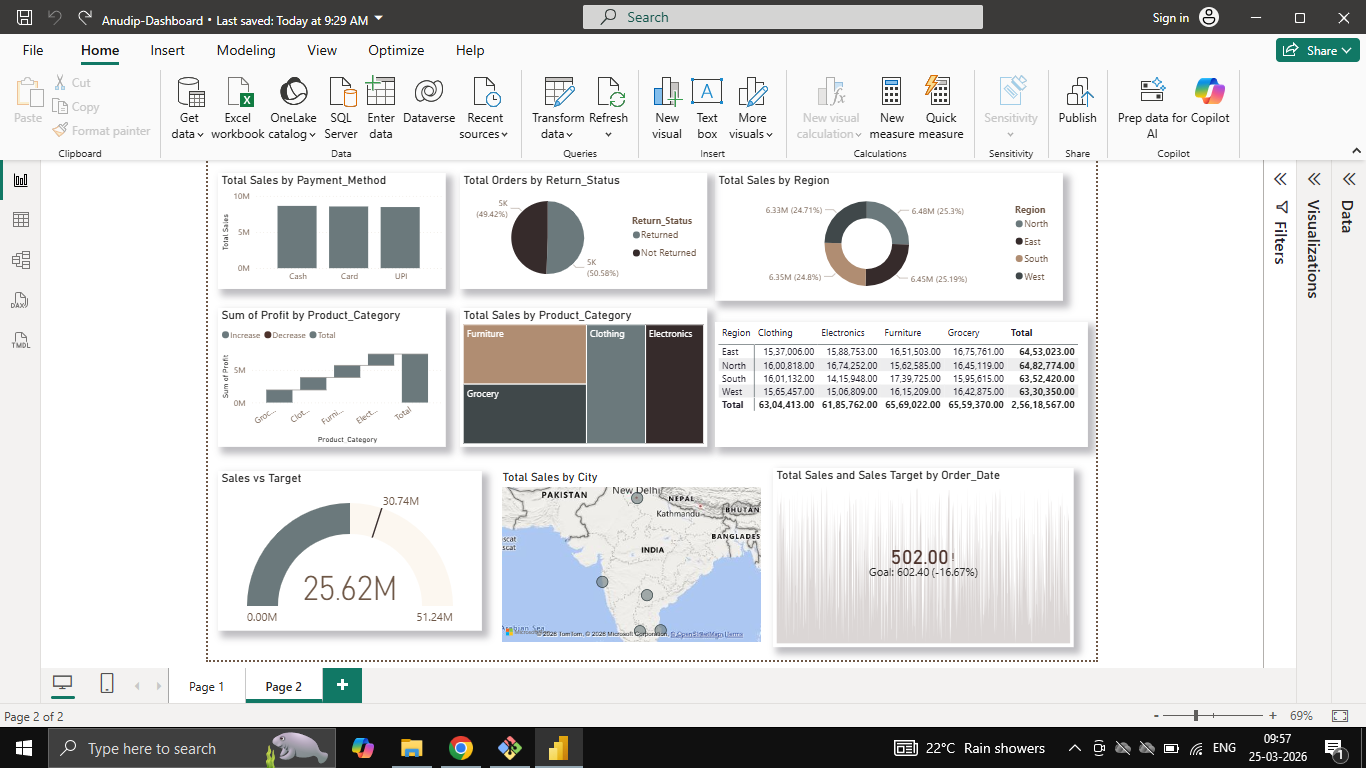

The dashboard page shown, as its layout file describes it:
{"tool":"powerbi","page":{"name":"Page 2","canvas":[1280,720],"ordinal":1},"visuals":[{"type":"donutChart","fields":{"Category":["Sales_data.Region"],"Y":["Sales_data.Total Sales"]},"box":[730.1,18.7,501.1,184.3],"z":0},{"type":"columnChart","fields":{"Category":["Sales_data.Payment_Method"],"Y":["Sales_data.Total Sales"]},"box":[14.4,18.7,328.3,167],"z":1000},{"type":"pieChart","fields":{"Category":["Sales_data.Return_Status"],"Y":["Sales_data.Total Orders"]},"box":[362.9,18.7,355.7,167],"z":2000},{"type":"waterfallChart","fields":{"Category":["Sales_data.Product_Category"],"Y":["Sum(Sales_data.Profit)"]},"box":[14.4,213.1,328.3,200.2],"z":3000},{"type":"gauge","title":"Sales vs Target","fields":{"Y":["Sales_data.Total Sales"],"TargetValue":["Sales_data.Sales Target"]},"box":[14.4,447.8,380.2,230.4],"z":4000},{"type":"treemap","fields":{"Group":["Sales_data.Product_Category"],"Values":["Sales_data.Total Sales"]},"box":[362.9,213.1,355.7,200.2],"z":5000},{"type":"pivotTable","fields":{"Rows":["Sales_data.Region"],"Columns":["Sales_data.Product_Category"],"Values":["Sales_data.Total Sales"]},"box":[730.1,233.3,537.1,180],"z":6000},{"type":"map","fields":{"Category":["Sales_data.City"],"Size":["Sales_data.Total Sales"]},"box":[419,446.4,381.6,253.4],"z":7000},{"type":"kpi","fields":{"TrendLine":["Sales_data.Order_Date"],"Goal":["Sales_data.Sales Target"],"Indicator":["Sales_data.Total Sales"]},"box":[813.6,443.5,433.4,257.8],"z":8000}]}

Visuals, with their boxes on the page's 1280x720 design canvas (x1, y1, x2, y2). These are canvas units, not pixel positions in the 1366x768 screenshot, which may show the page scaled, cropped or inside an application window:
donutChart - Sales_data.Region x Sales_data.Total Sales: crop(730, 19, 1231, 203)
columnChart - Sales_data.Payment_Method x Sales_data.Total Sales: crop(14, 19, 343, 186)
pieChart - Sales_data.Return_Status x Sales_data.Total Orders: crop(363, 19, 719, 186)
waterfallChart - Sales_data.Product_Category x Sum(Sales_data.Profit): crop(14, 213, 343, 413)
"Sales vs Target" gauge: crop(14, 448, 395, 678)
treemap - Sales_data.Product_Category x Sales_data.Total Sales: crop(363, 213, 719, 413)
pivotTable - Sales_data.Region x Sales_data.Product_Category: crop(730, 233, 1267, 413)
map - Sales_data.City x Sales_data.Total Sales: crop(419, 446, 801, 700)
kpi - Sales_data.Order_Date x Sales_data.Sales Target: crop(814, 444, 1247, 701)
